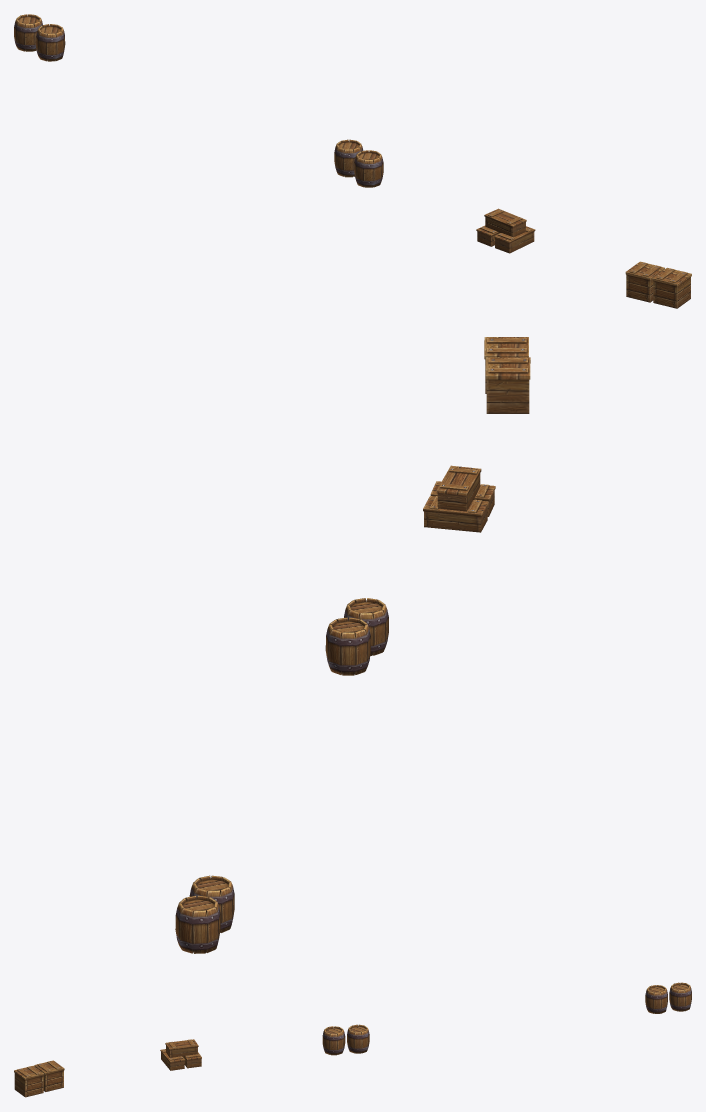
Rendered from Area_13_61.fbx.
3 renders of one model, top to bottom at view 1: azimuth 30°, elevation 25°; view 2: azimuth 150°, elevation 25°; view 3: azimuth 270°, elevation 25°, orthographic. The views are drawn at different scales.
Visible parts, largest first — view 1: Area_13_61; view 2: Area_13_61; view 3: Area_13_61.
Part boxes in pixels (box(x1,y1,x2,y2)): Area_13_61: box(14, 14, 691, 308); Area_13_61: box(175, 337, 530, 953); Area_13_61: box(14, 982, 691, 1097).
Bounding box in the file's own units: 733 × 79.5 × 2210.
